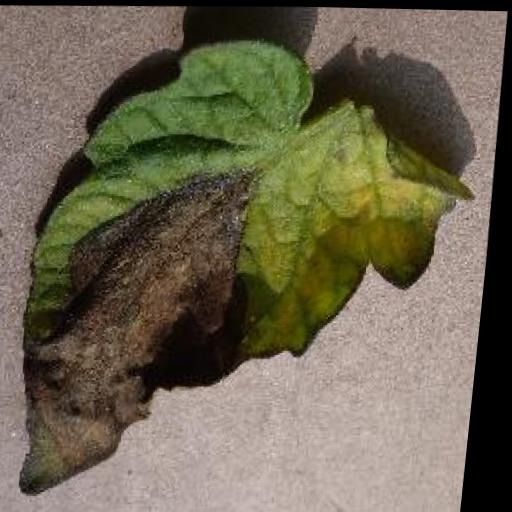Late Blight: (4, 34, 493, 506)
